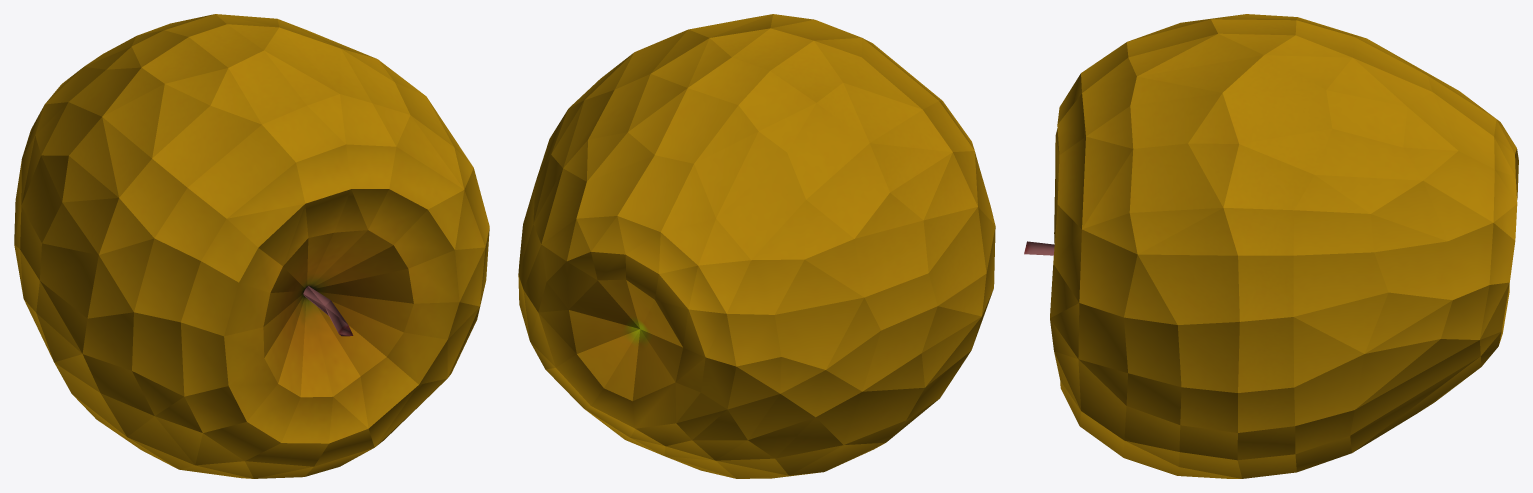
File: MeshAppleB6_0.obj
The picture shows the model from 3 angles, left to right: view 1: azimuth 30°, elevation 25°; view 2: azimuth 150°, elevation 25°; view 3: azimuth 270°, elevation 25°; orthographic projection. The views are drawn at different scales.
Visible parts, largest first — view 1: AppleB6; view 2: AppleB6; view 3: AppleB6.
Boxes of the visible parts, <box> form: AppleB6: <box>14,14,489,478</box>; AppleB6: <box>518,14,995,478</box>; AppleB6: <box>1024,14,1518,478</box>.
Bounding box in the file's own units: 0.0855 × 0.085 × 0.0884.
